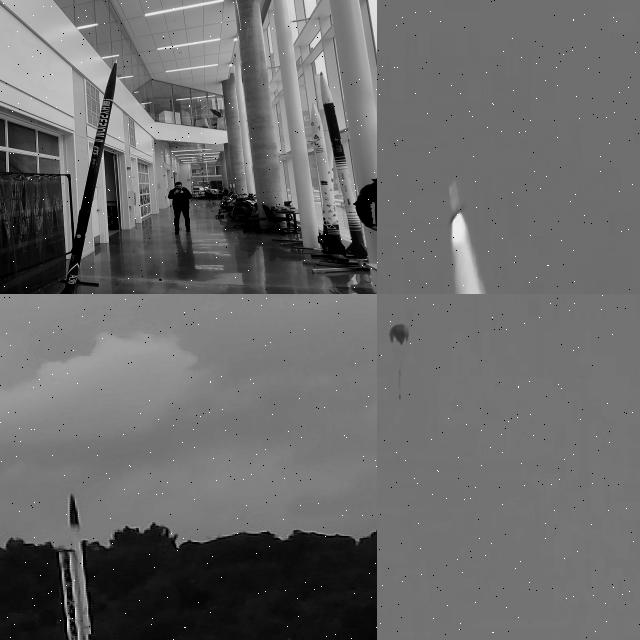Rocket: (59, 58, 118, 294), (66, 494, 95, 640), (448, 180, 464, 224), (398, 370, 401, 400)
